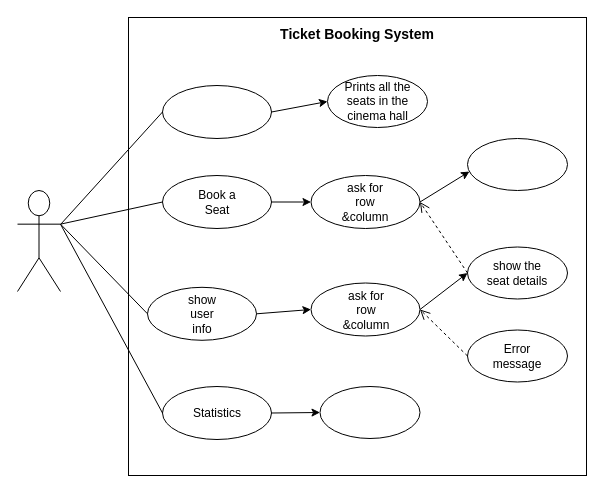
Image size: 604x493. Some labels were removed from this diagram. The box of each missing label's shape, as (x1, y1, x2, y2) in pixels:
ask for the details: (466, 138, 568, 190)
Show the seats: (162, 84, 272, 138)
Shows all the details: (319, 386, 420, 438)
User: (16, 190, 60, 292)
